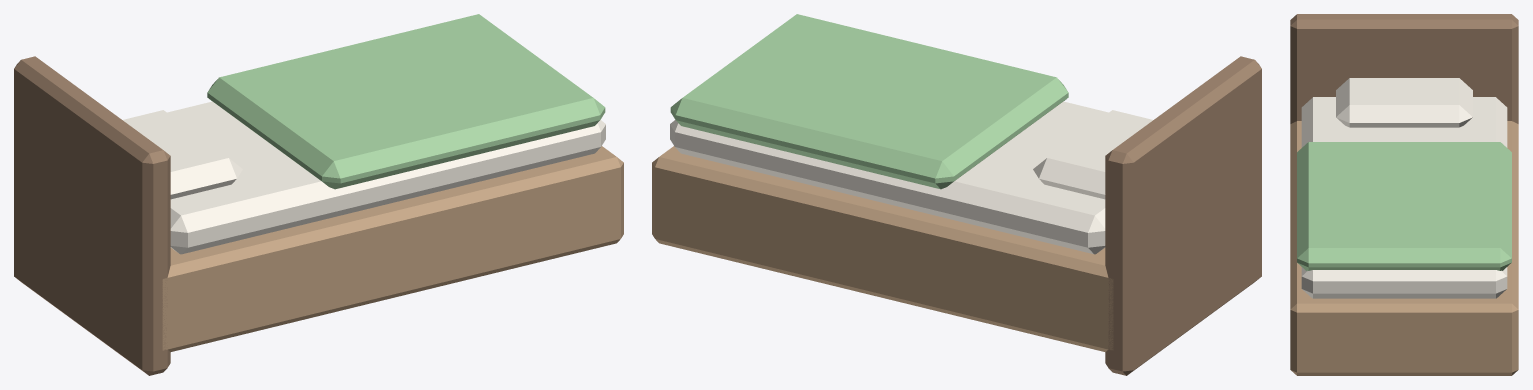
The model's file is prop_bed.glb.
The picture shows the model from 3 angles, left to right: view 1: azimuth 30°, elevation 25°; view 2: azimuth 150°, elevation 25°; view 3: azimuth 270°, elevation 25°; orthographic projection. The views are drawn at different scales.
Parts seen in each view (by area): view 1: prop_bed; view 2: prop_bed; view 3: prop_bed.
Part boxes in pixels (x1=…): prop_bed: x1=14, y1=14, x2=623, y2=375; prop_bed: x1=652, y1=14, x2=1261, y2=375; prop_bed: x1=1290, y1=14, x2=1518, y2=375.
Bounding box in the file's own units: 2.04 × 0.9 × 1.
